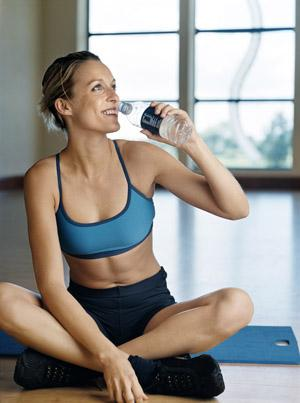person: (2, 49, 255, 402)
